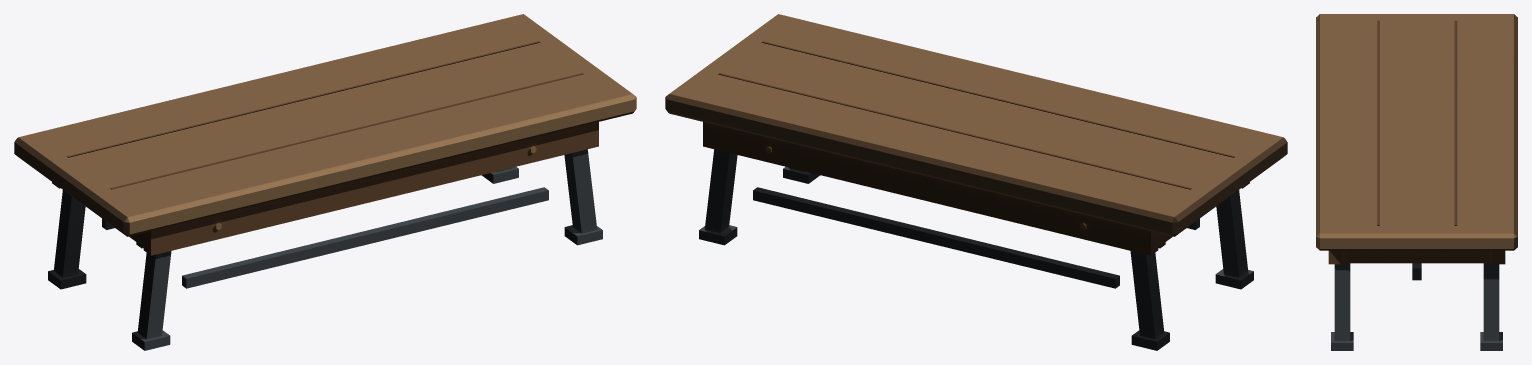
File: 0-20261016-1900-ev010-r02-collab-meetingtable_baked.glb
3 renders of one model, left to right at view 1: azimuth 30°, elevation 25°; view 2: azimuth 150°, elevation 25°; view 3: azimuth 270°, elevation 25°, orthographic. The views are drawn at different scales.
Parts seen in each view (by area): view 1: SW_Collab_MeetingTable; view 2: SW_Collab_MeetingTable; view 3: SW_Collab_MeetingTable.
Part boxes in pixels (box(x1,y1,x2,y2)): SW_Collab_MeetingTable: box(14, 14, 636, 350); SW_Collab_MeetingTable: box(665, 14, 1287, 350); SW_Collab_MeetingTable: box(1316, 14, 1517, 350).
Bounding box in the file's own units: 3 × 0.808 × 1.15.
Materials: 1 (1 with a texture image).
